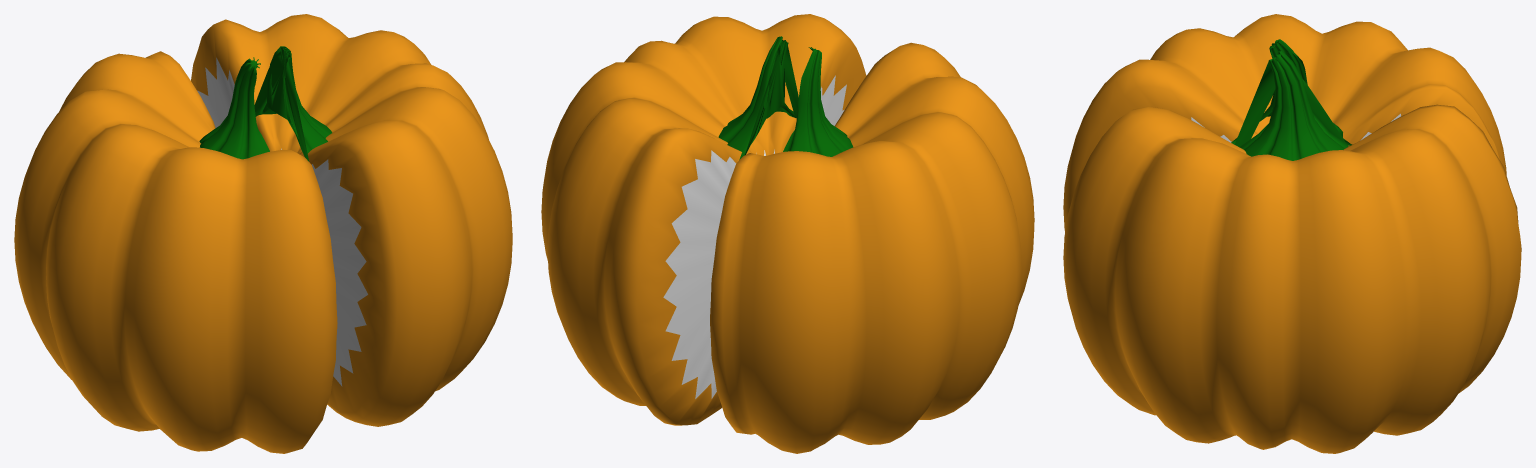
Rendered from PumpkinSliced.fbx.
3 renders of one model, left to right at view 1: azimuth 30°, elevation 25°; view 2: azimuth 150°, elevation 25°; view 3: azimuth 270°, elevation 25°, orthographic.
Parts seen in each view (by area): view 1: Сфера, Сфера.001, Окружность.001, Окружность; view 2: Сфера, Сфера.001, Окружность.001, Окружность; view 3: Сфера.001, Сфера, Окружность.001, Окружность.
Part boxes in pixels (left/top/right/bottom): Сфера: left=14, top=51, right=337, bottom=453; Сфера.001: left=191, top=14, right=512, bottom=426; Окружность.001: left=254, top=46, right=332, bottom=161; Окружность: left=199, top=57, right=269, bottom=159; Сфера: left=710, top=42, right=1034, bottom=453; Сфера.001: left=541, top=14, right=866, bottom=425; Окружность.001: left=718, top=36, right=798, bottom=159; Окружность: left=783, top=47, right=853, bottom=156; Сфера.001: left=1063, top=104, right=1521, bottom=453; Сфера: left=1063, top=14, right=1506, bottom=231; Окружность.001: left=1234, top=50, right=1348, bottom=160; Окружность: left=1231, top=39, right=1352, bottom=145.
Bounding box in the file's own units: 415 × 320 × 382.
